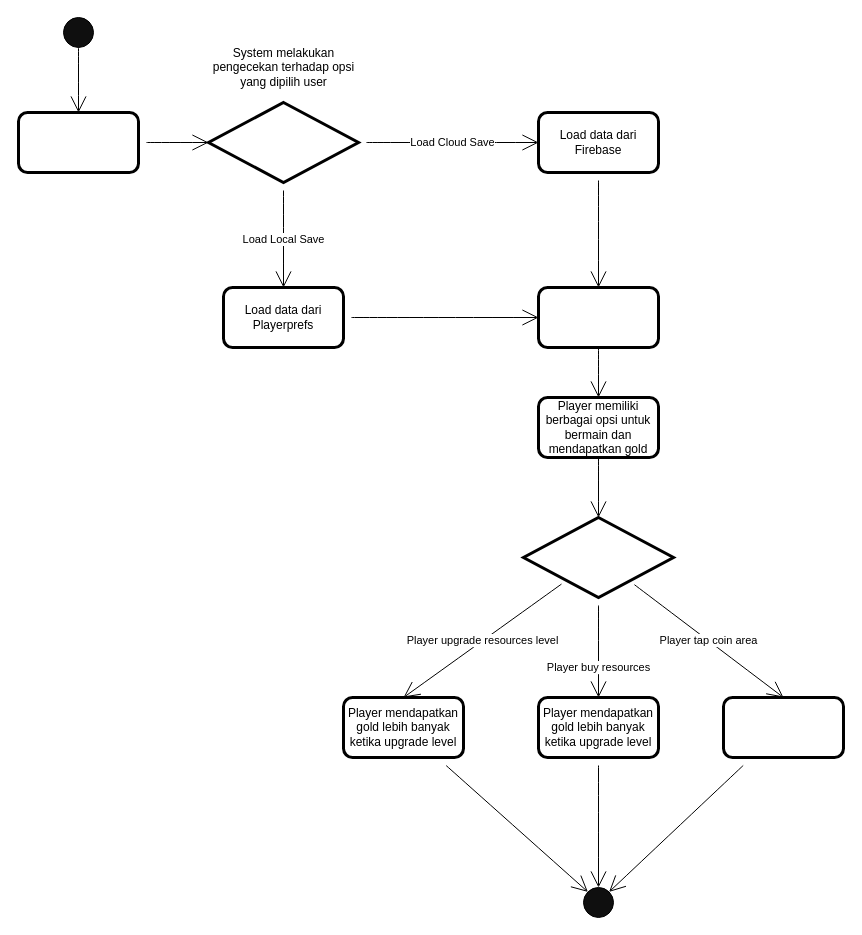
Image size: 862x935. Some labels were removed from this diagram. The shapes that lost their labels are listed below. From the top down, each one's centre as x and y in pixels, then its label:
At (x=78, y=142): "Player select load options".
At (x=598, y=317): "Player mendapatkan gold dari posisi Idle".
At (x=783, y=727): "Player mendapatkan gold ketika melakukan tap".
